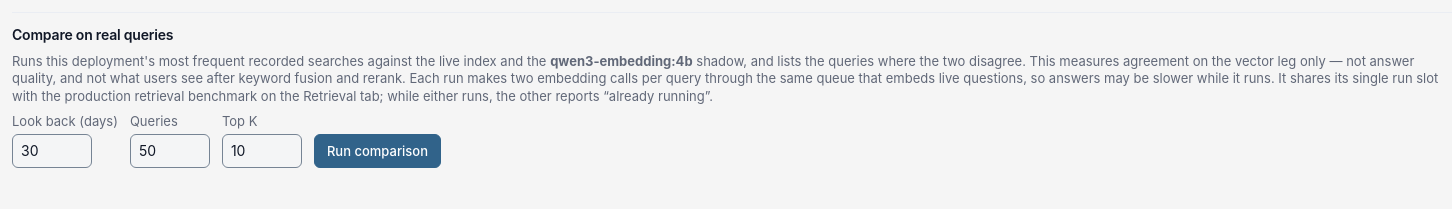
Test case: EmbeddingShadowCompareSection (#1260) › polls no faster than every 5 seconds — two admin-rate-limited requests share the card
Step 1. Click the button with test id "shadow-compare-start" → (377, 151), box 314,134 -> 441,168
Wait 5500 ms
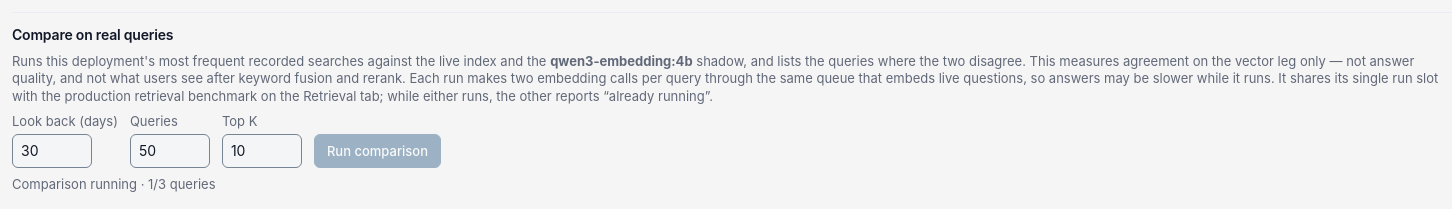
Now the text "Comparison running · 1/3 queries" is shown, box 12,176 -> 216,192
